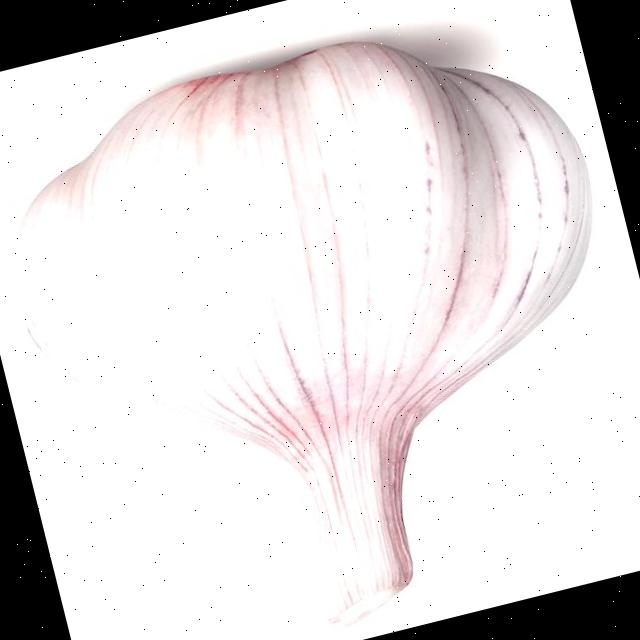garlic: (22, 42, 589, 620)
